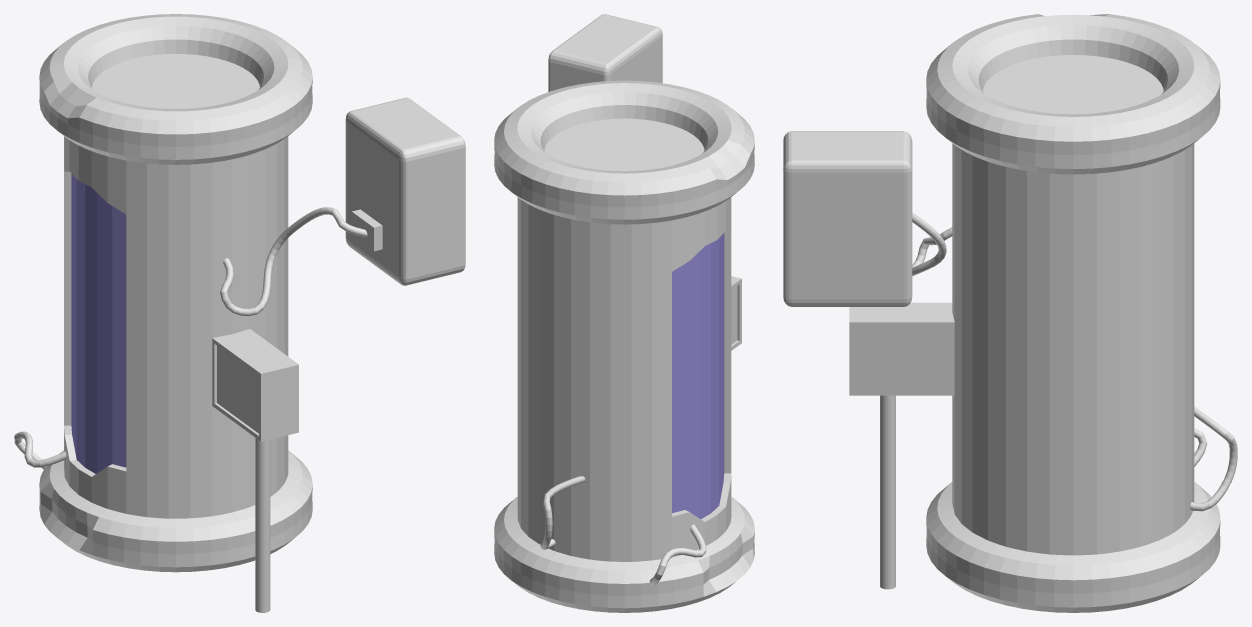
File: CryoPod.fbx
3 views of the same model, side by side, from view 1: azimuth 30°, elevation 25°; view 2: azimuth 150°, elevation 25°; view 3: azimuth 270°, elevation 25° (orthographic). The views are drawn at different scales.
Parts seen in each view (by area): view 1: Cube.001; view 2: Cube.001; view 3: Cube.001.
Boxes of the visible parts, x1,y1,x2,y2 form: Cube.001: [14, 14, 465, 612]; Cube.001: [494, 14, 754, 612]; Cube.001: [783, 14, 1237, 612].
Bounding box in the file's own units: 425 × 711 × 564.
